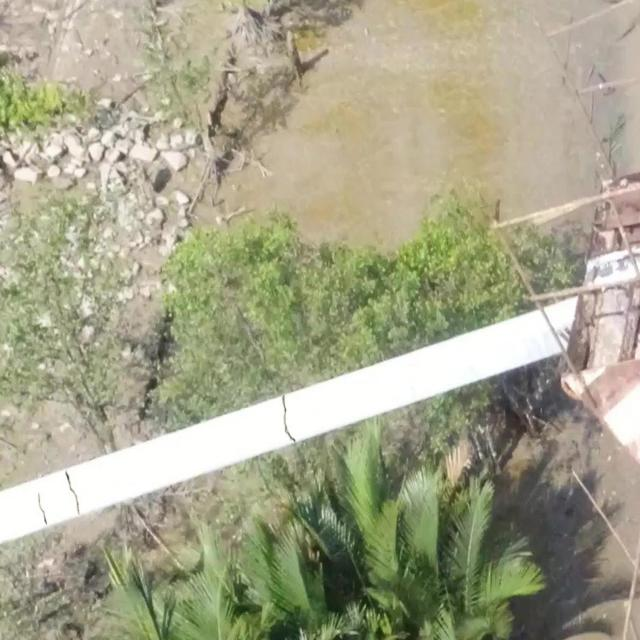crack: (63, 470, 81, 514), (281, 394, 297, 443), (37, 492, 49, 527)
